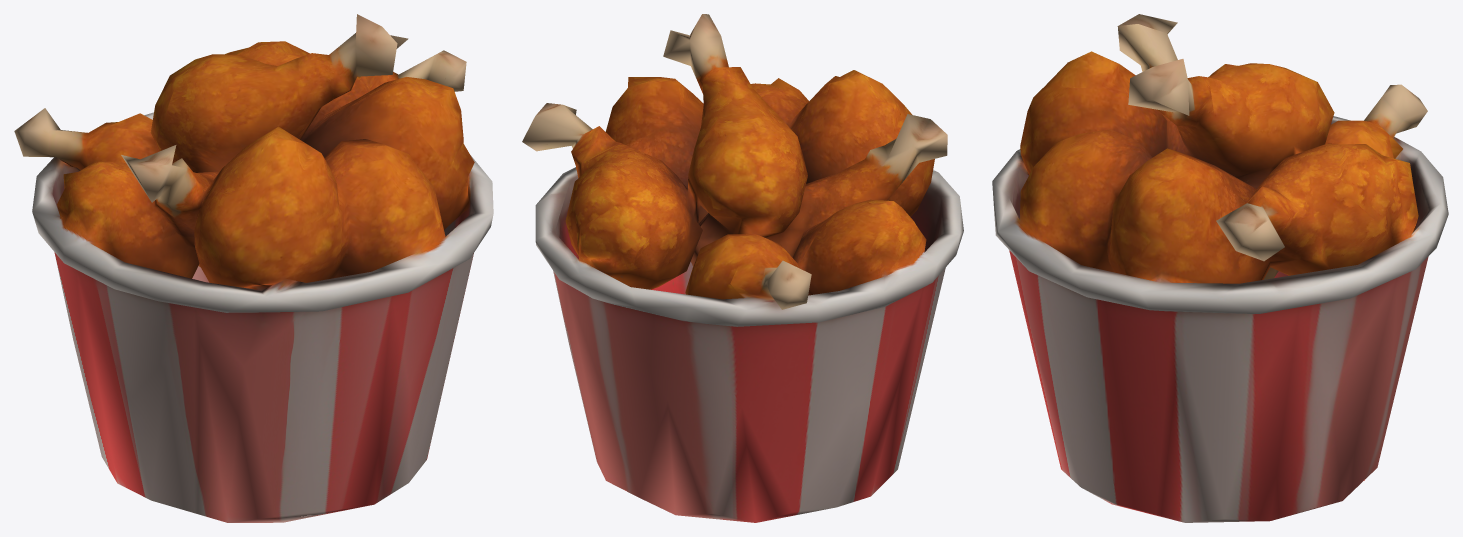
The model's file is bucket.glb.
3 renders of one model, left to right at view 1: azimuth 30°, elevation 25°; view 2: azimuth 150°, elevation 25°; view 3: azimuth 270°, elevation 25°, orthographic. The views are drawn at different scales.
Visible parts, largest first — view 1: tripo_node_42bb9df3-cbd6-4778-8631-f237f4696bec; view 2: tripo_node_42bb9df3-cbd6-4778-8631-f237f4696bec; view 3: tripo_node_42bb9df3-cbd6-4778-8631-f237f4696bec.
Part boxes in pixels (box(x1,y1,x2,y2)): tripo_node_42bb9df3-cbd6-4778-8631-f237f4696bec: box(14, 14, 493, 522); tripo_node_42bb9df3-cbd6-4778-8631-f237f4696bec: box(522, 14, 963, 522); tripo_node_42bb9df3-cbd6-4778-8631-f237f4696bec: box(992, 14, 1448, 522).
Size of the model in its own units: 0.9861 by 0.9935 by 0.9453.
1 material, 1 textured.
